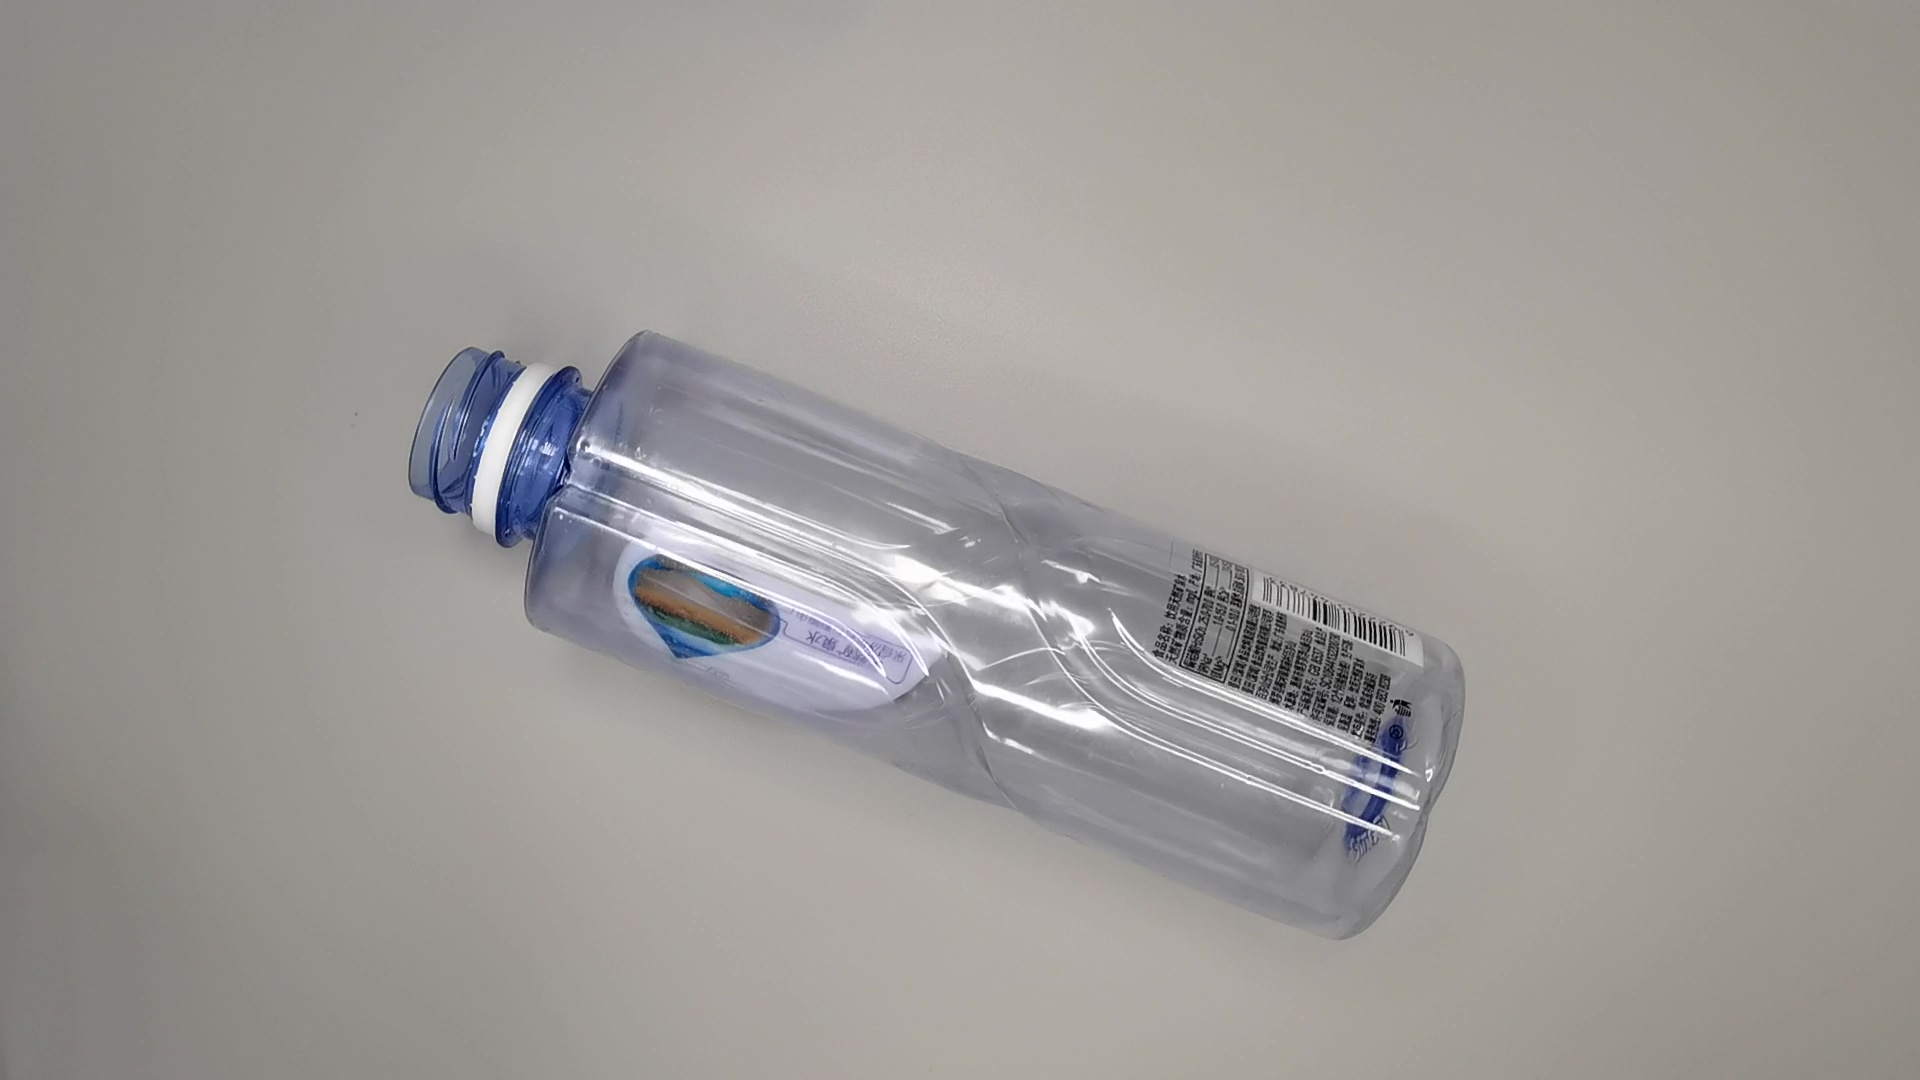bottle: (386, 324, 1466, 960)
